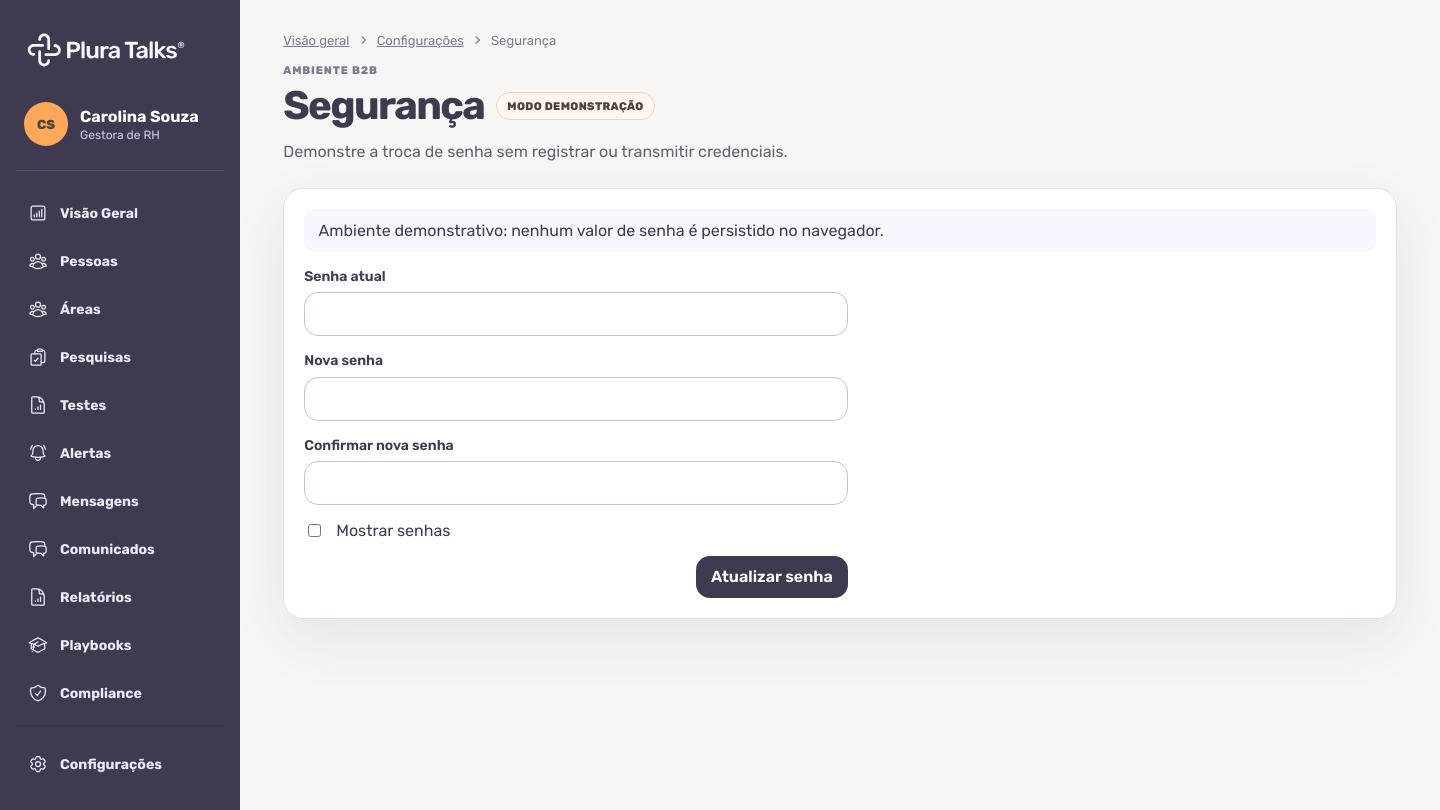
Test: fluxos das configurações › limpa credenciais e não grava a troca de senha no storage
The width and height of the screenshot is (1440, 810).
Type "senha-atual" into the password field labelled "Senha atual" at (576, 314), box [304,292,848,336]
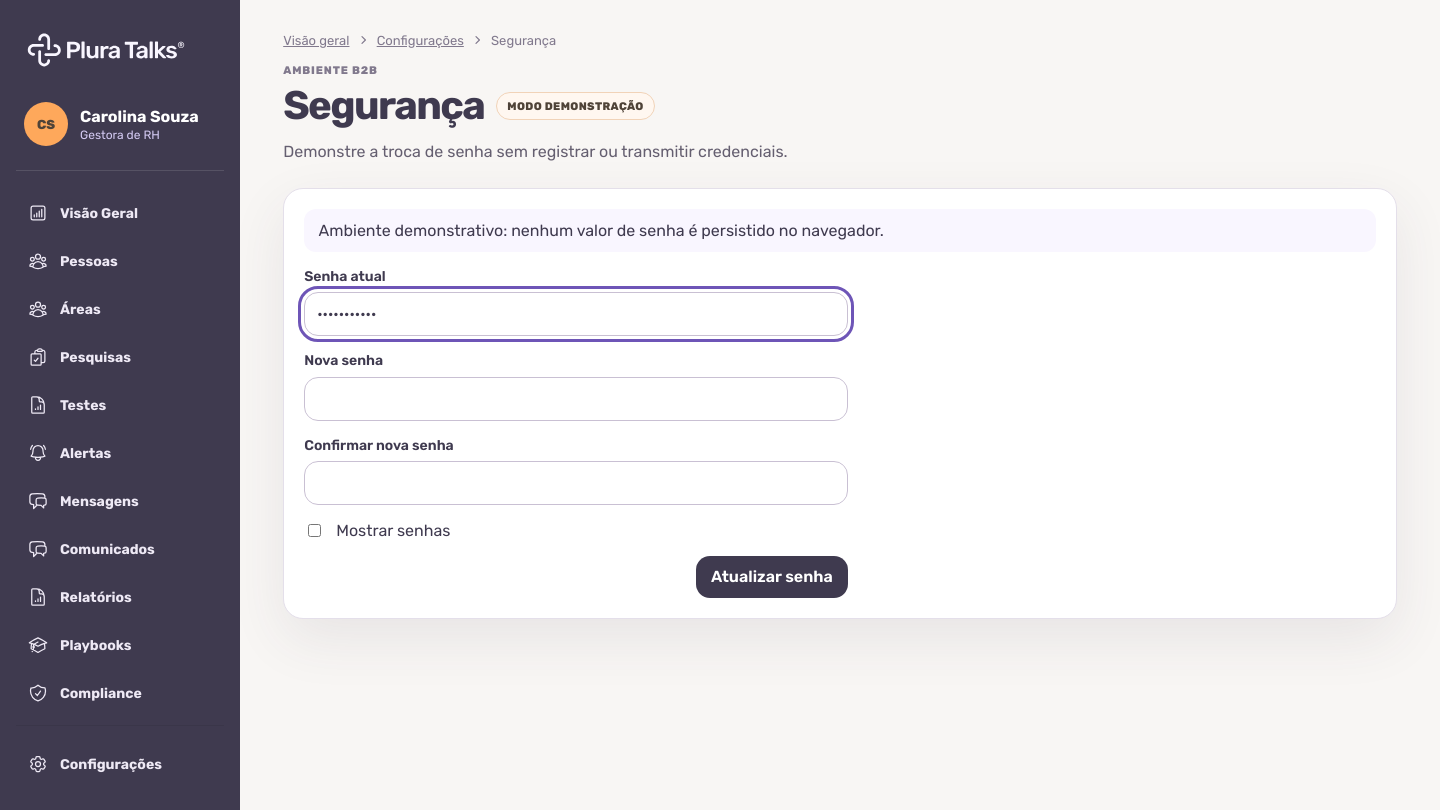
Type "nova-senha-segura" into the password field labelled "Nova senha" at (576, 398), box [304,376,848,420]
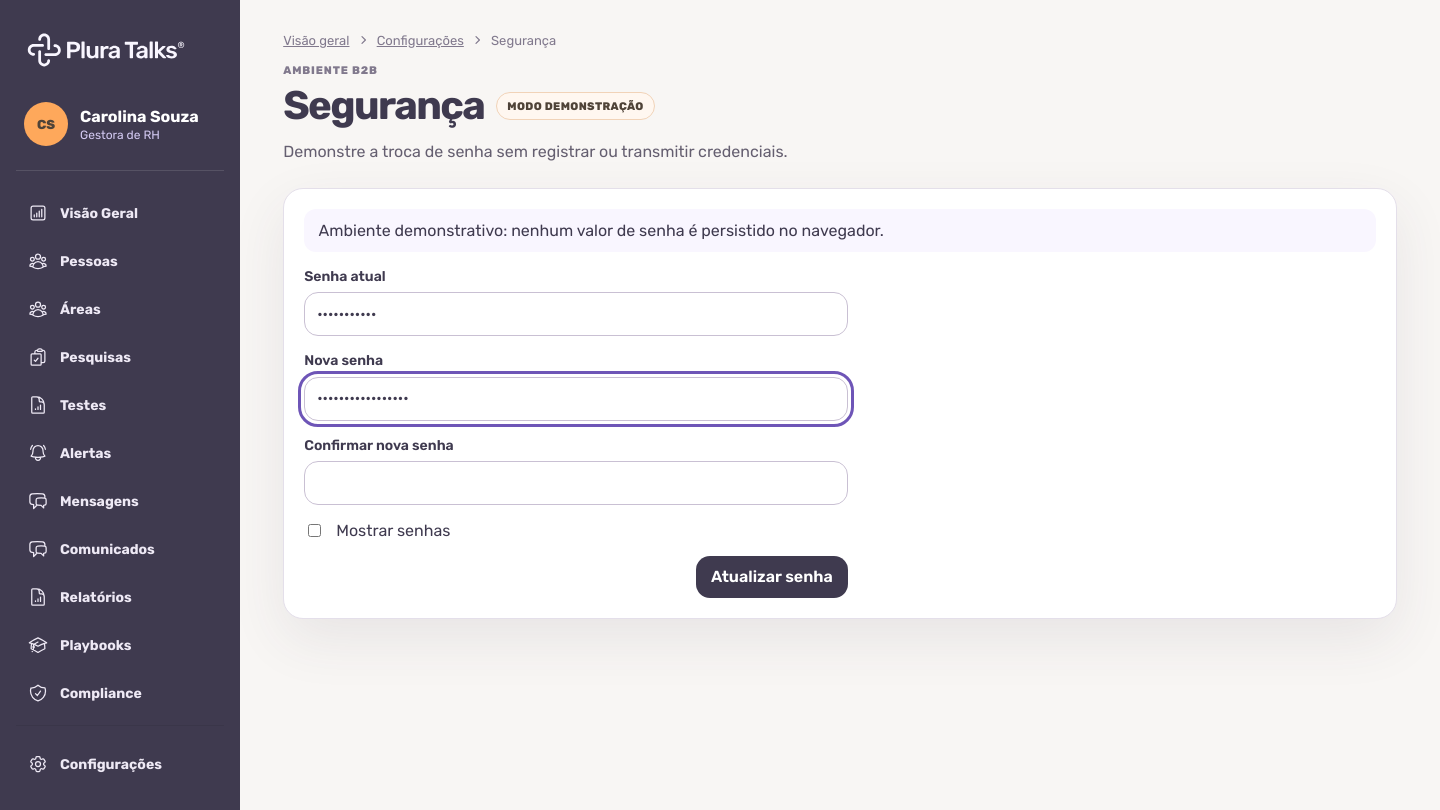
Type "nova-senha-segura" into the password field labelled "Confirmar nova senha" at (576, 483), box [304,461,848,505]
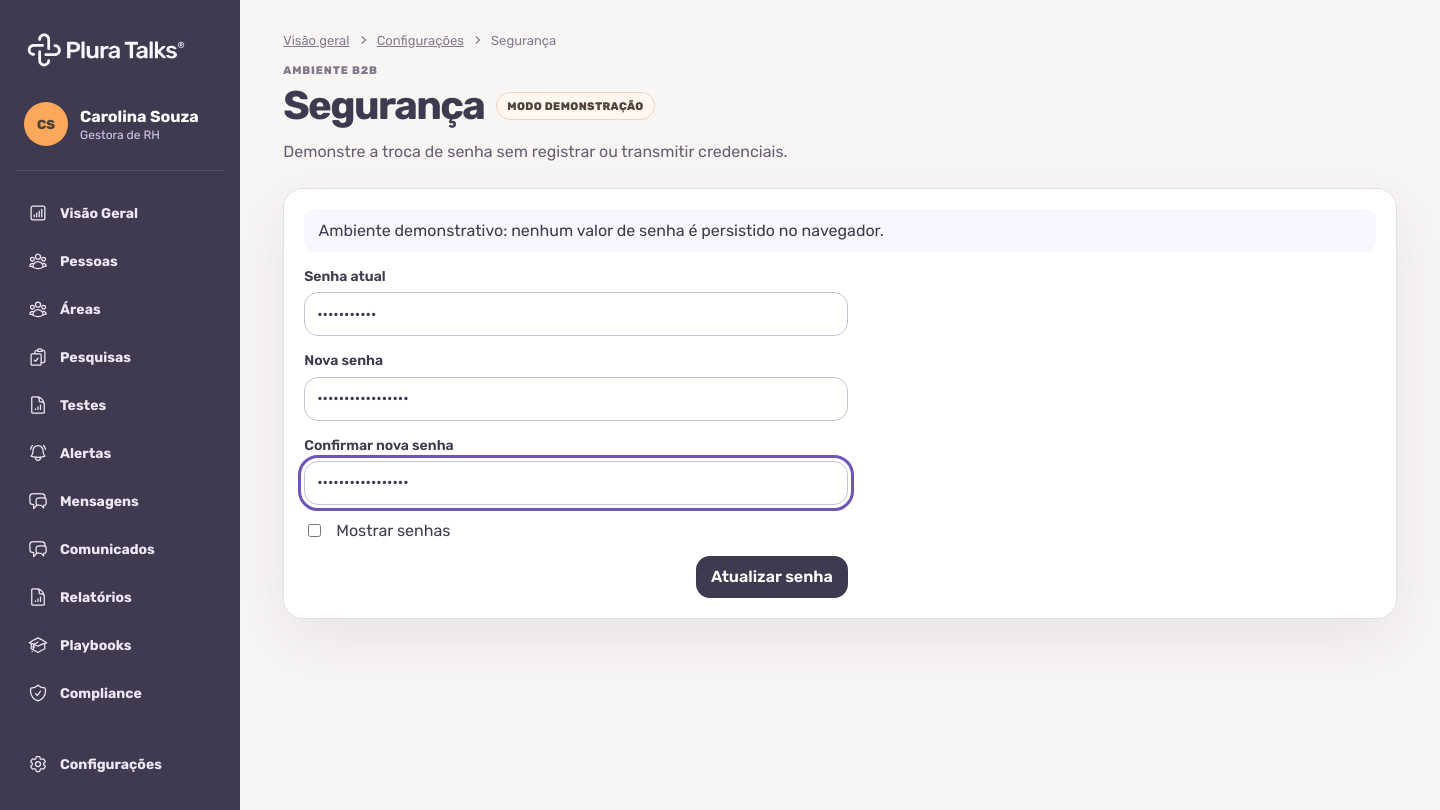
Click the button "Atualizar senha" at (772, 577), box [696,556,848,598]
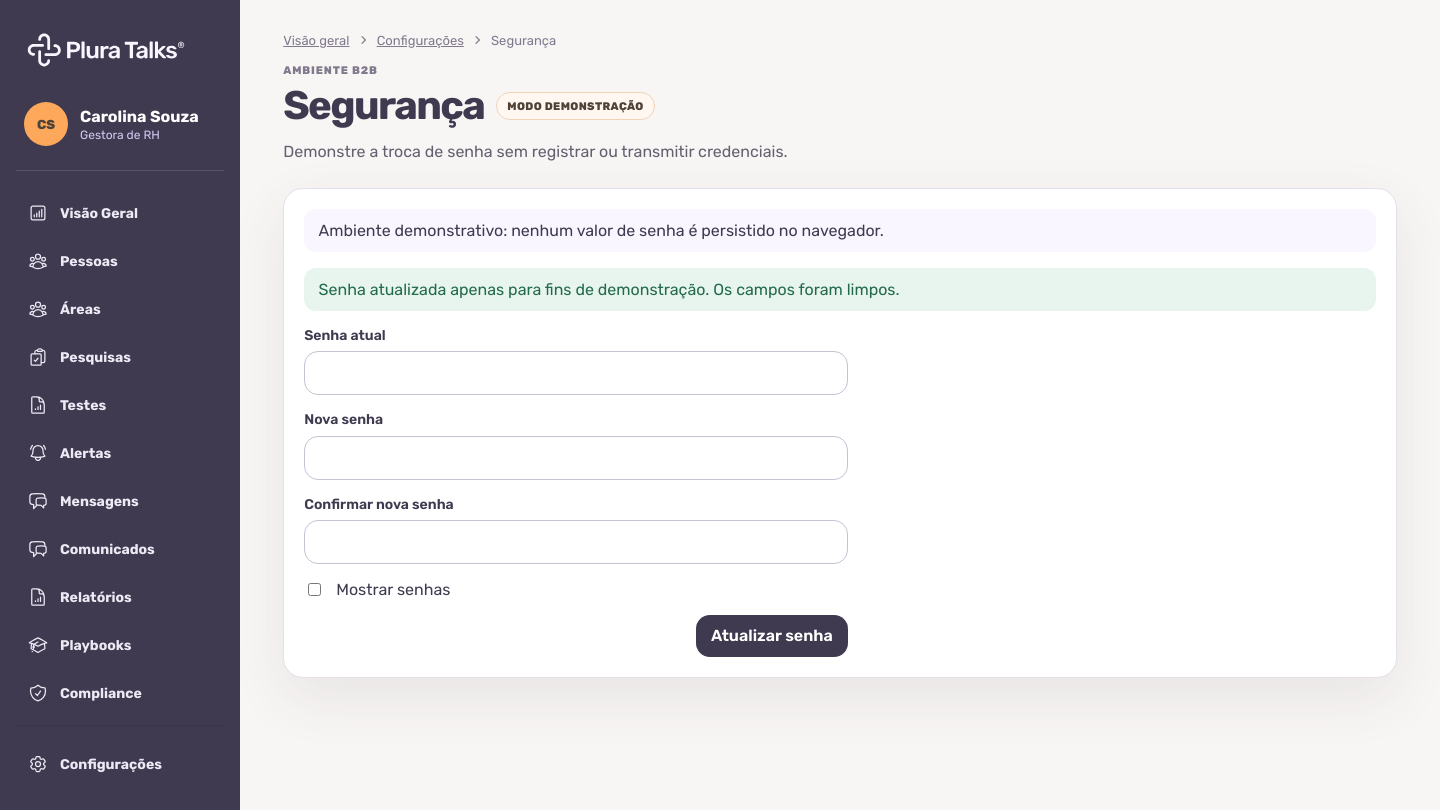
Check: the text "Senha atualizada apenas para fins de demonstração. Os campos foram limpos." is shown, box [304,268,1376,311]
Check: the password field labelled "Senha atual" is empty, box [304,351,848,395]
